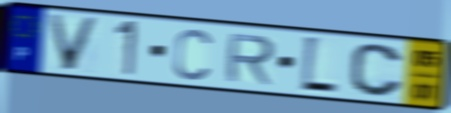1: (113, 19, 139, 78)
C: (348, 42, 406, 100), (172, 26, 214, 83)
L: (298, 33, 340, 97)
R: (223, 32, 278, 87)
V: (45, 12, 102, 73)
